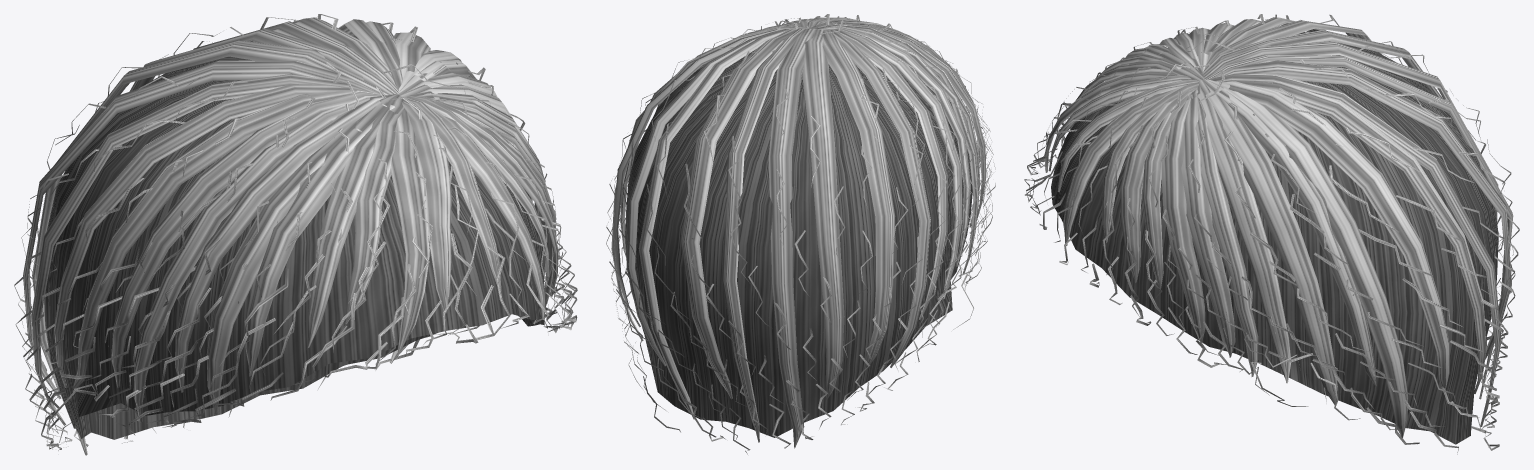
The model's file is unified_m_curly.glb.
3 views of the same model, side by side, from view 1: azimuth 30°, elevation 25°; view 2: azimuth 150°, elevation 25°; view 3: azimuth 270°, elevation 25° (orthographic). The views are drawn at different scales.
Visible parts, largest first — view 1: Hair_directional_locks, Hair_scalp, Hair_layered_strands; view 2: Hair_directional_locks, Hair_scalp, Hair_layered_strands; view 3: Hair_directional_locks, Hair_scalp, Hair_layered_strands.
Part boxes in pixels (<box>): Hair_directional_locks: <box>23,17,558,455</box>; Hair_scalp: <box>44,36,544,439</box>; Hair_layered_strands: <box>14,14,577,450</box>; Hair_directional_locks: <box>611,17,986,448</box>; Hair_scalp: <box>625,50,972,437</box>; Hair_layered_strands: <box>606,14,995,454</box>; Hair_directional_locks: <box>1044,17,1513,437</box>; Hair_scalp: <box>1051,32,1498,444</box>; Hair_layered_strands: <box>1024,14,1519,454</box>.
Bounding box in the file's own units: 0.11 × 0.1035 × 0.1191.
Materials: 2 (2 with a texture image).
